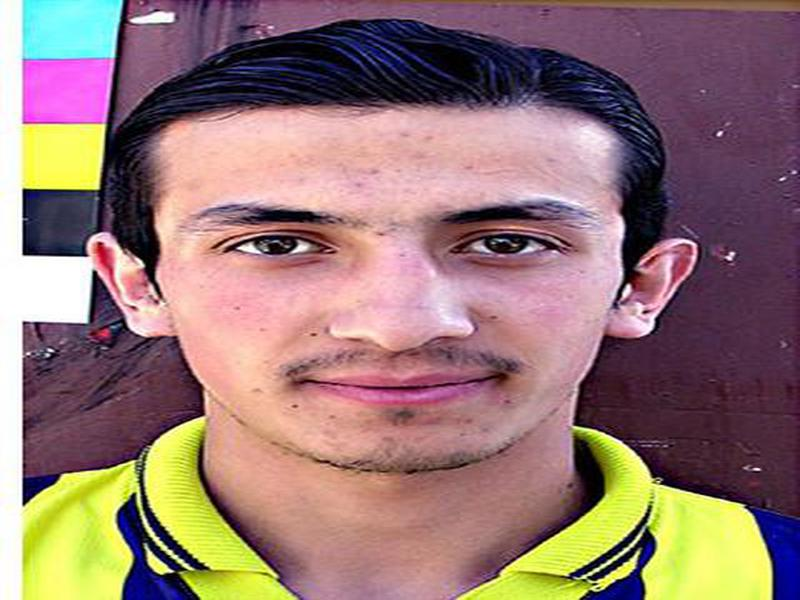without_mask: (148, 123, 621, 475)
